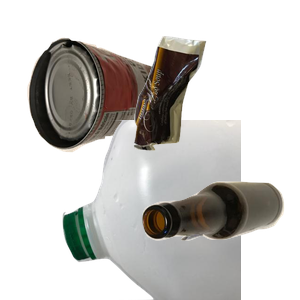glass: (140, 179, 300, 300)
metal: (25, 35, 189, 180)
plastic: (60, 120, 300, 300)
trash: (131, 34, 300, 177)
